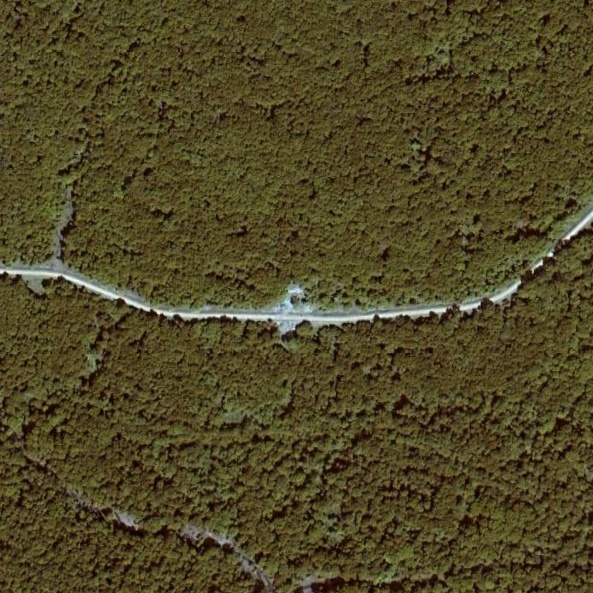slope: (267, 280, 310, 337)
